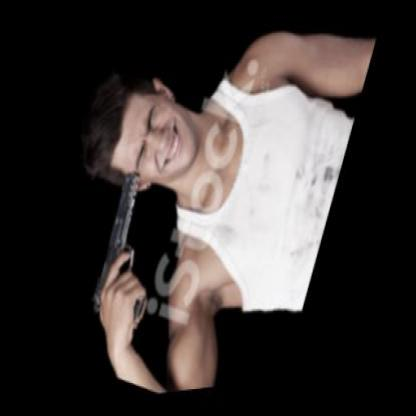pistol: (84, 164, 178, 342)
